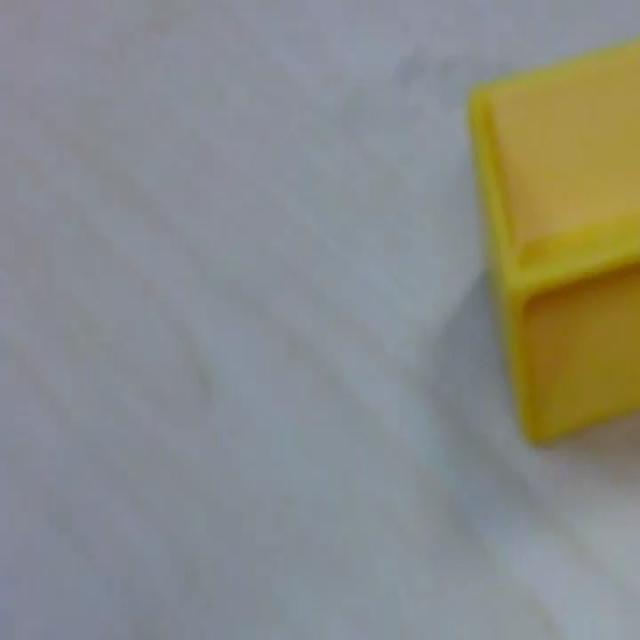yellow_block: (466, 36, 638, 447)
